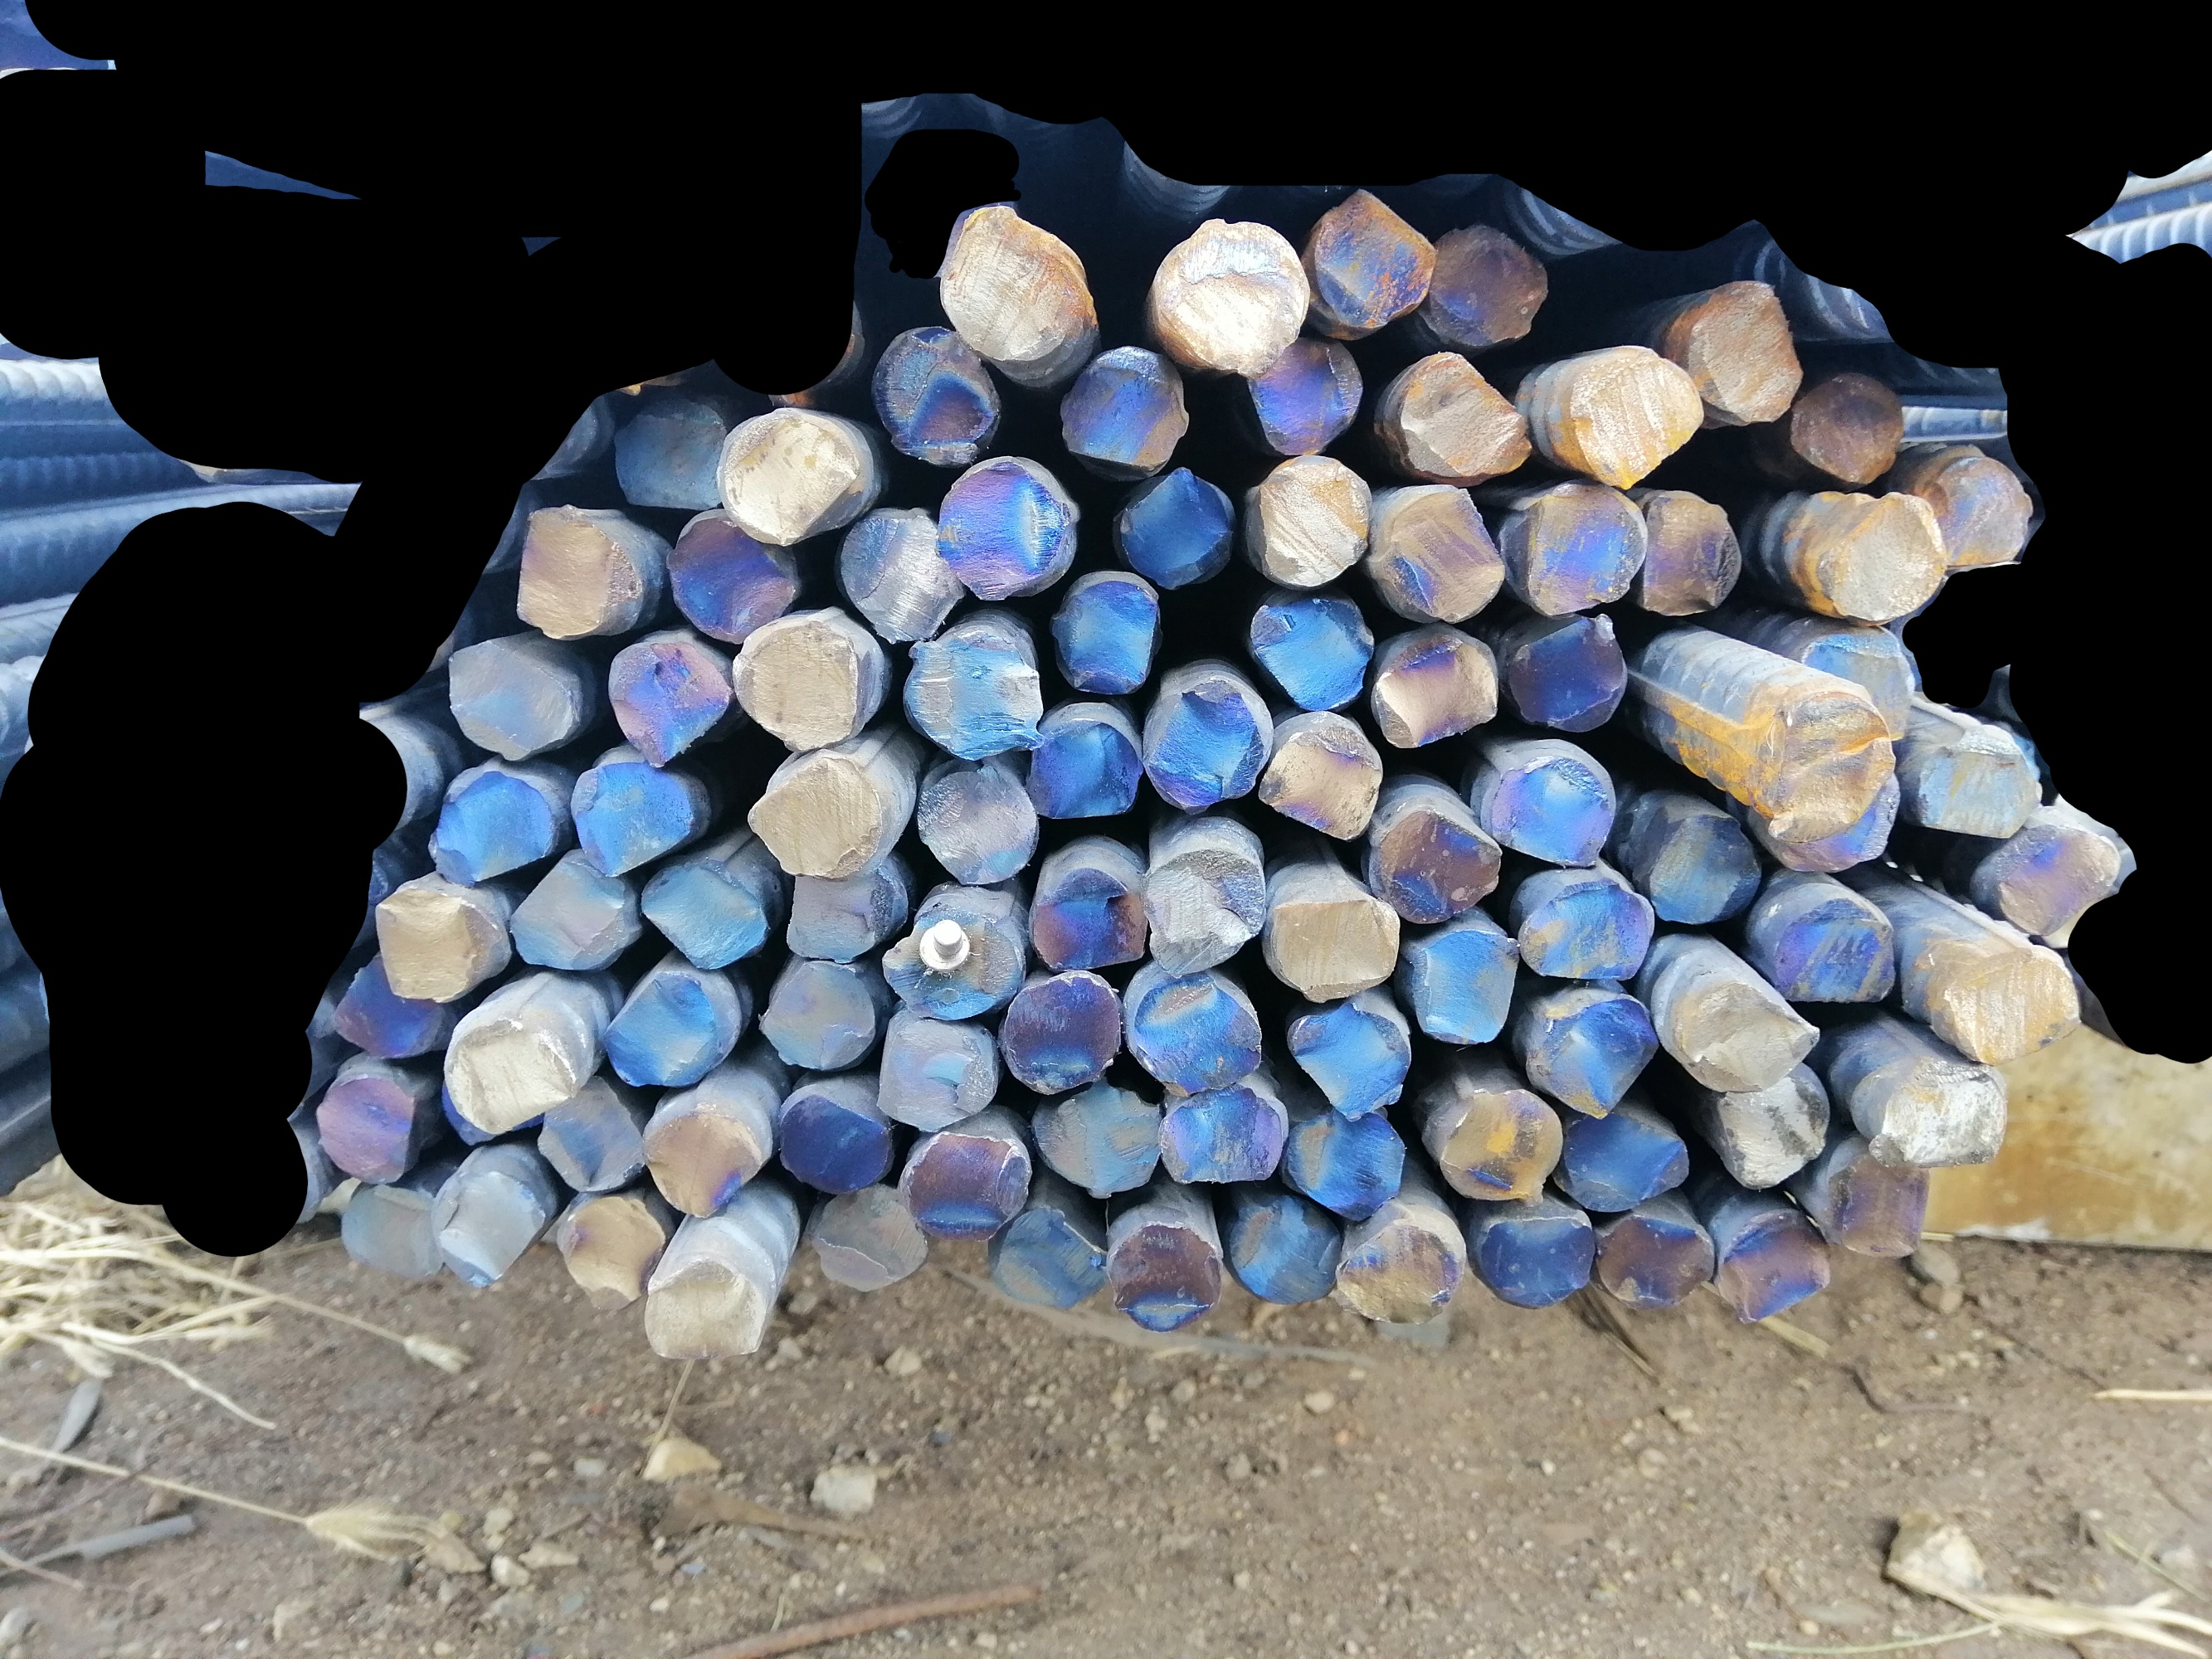rebar: (931, 200, 1086, 364), (1154, 214, 1309, 376), (1741, 685, 1898, 840), (934, 455, 1077, 608), (1389, 349, 1537, 488), (1565, 343, 1705, 491), (879, 896, 1030, 1030), (1930, 934, 2081, 1068), (903, 626, 1046, 767), (713, 401, 851, 545), (1670, 962, 1820, 1094), (1508, 484, 1649, 624), (1055, 336, 1191, 479), (1910, 441, 2045, 584), (1302, 188, 1436, 329), (438, 1004, 582, 1134), (875, 317, 1002, 465), (729, 620, 866, 756), (662, 507, 798, 645), (1372, 483, 1506, 622), (1138, 671, 1271, 812), (1483, 744, 1625, 877), (1677, 279, 1804, 425), (1128, 967, 1262, 1105), (1527, 986, 1659, 1124), (1815, 488, 1947, 626), (743, 751, 882, 882), (1361, 805, 1508, 929), (603, 629, 730, 769), (446, 634, 582, 763), (838, 502, 966, 640), (427, 1162, 551, 1304), (1865, 1054, 2010, 1175), (1431, 1080, 1567, 1208), (422, 760, 561, 884), (514, 502, 636, 643), (1978, 824, 2130, 938), (1253, 455, 1374, 596), (605, 962, 737, 1089), (912, 760, 1041, 889), (568, 755, 701, 880), (1145, 849, 1271, 981), (504, 850, 638, 974), (1262, 894, 1403, 1011), (1102, 1213, 1229, 1342), (1281, 1002, 1414, 1126), (1773, 889, 1902, 1014), (1337, 1208, 1468, 1331), (1768, 769, 1914, 878), (1114, 465, 1239, 592), (1914, 727, 2045, 849), (610, 389, 734, 516), (1260, 714, 1384, 842), (1248, 591, 1377, 713), (1377, 626, 1508, 746), (877, 1009, 1002, 1133), (1424, 221, 1548, 347), (1002, 972, 1124, 1100), (1551, 1105, 1693, 1215), (640, 1101, 765, 1223), (1644, 800, 1764, 927), (1518, 880, 1659, 988), (1023, 1082, 1157, 1195), (638, 1253, 776, 1363), (1715, 1068, 1834, 1195), (1286, 1105, 1408, 1227), (1248, 333, 1368, 457), (899, 1131, 1028, 1246), (526, 1072, 643, 1197), (1400, 929, 1525, 1046), (1513, 612, 1630, 737), (1802, 617, 1917, 744), (1030, 857, 1152, 976), (1227, 1185, 1346, 1305), (1159, 1080, 1283, 1195), (377, 892, 502, 1006), (1832, 1141, 1938, 1274), (640, 857, 767, 967), (812, 1176, 927, 1297), (1640, 484, 1741, 620), (554, 1183, 669, 1300), (1790, 364, 1905, 481), (1023, 716, 1145, 826), (990, 1199, 1107, 1312), (1476, 1206, 1598, 1314), (763, 960, 879, 1072), (316, 1068, 422, 1188), (779, 863, 899, 967), (1055, 570, 1157, 692), (776, 1091, 894, 1195), (1598, 1202, 1717, 1304), (336, 955, 446, 1063), (1724, 1218, 1834, 1326), (343, 1178, 444, 1284)
